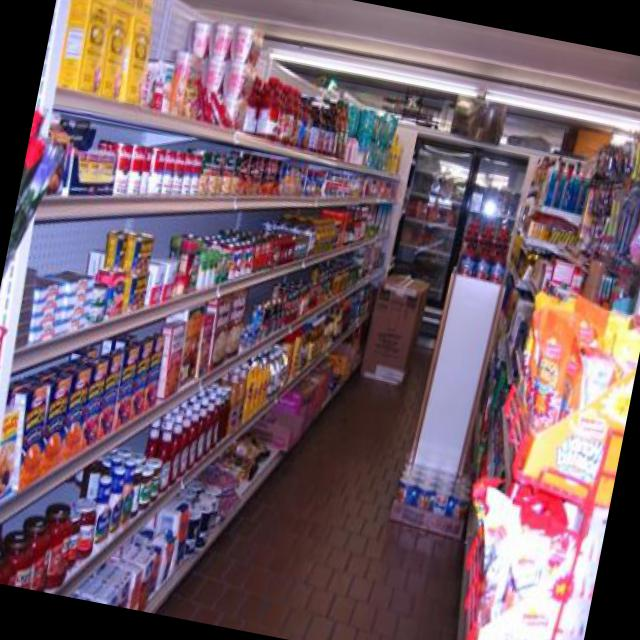box contants: (60, 0, 160, 107), (363, 269, 432, 386), (159, 319, 190, 397)
boxs: (0, 329, 166, 500), (184, 289, 251, 384)
ceiling beam: (192, 0, 640, 157)
floor -X: (159, 324, 493, 640)
fridger occluded: (380, 124, 540, 355)
jar -X: (75, 497, 99, 555)
jars: (0, 499, 82, 589), (134, 455, 165, 514)
lamp crop: (278, 49, 640, 134)
shelves crop: (458, 132, 640, 640)
tins of tea: (92, 137, 205, 194), (92, 226, 155, 325)
